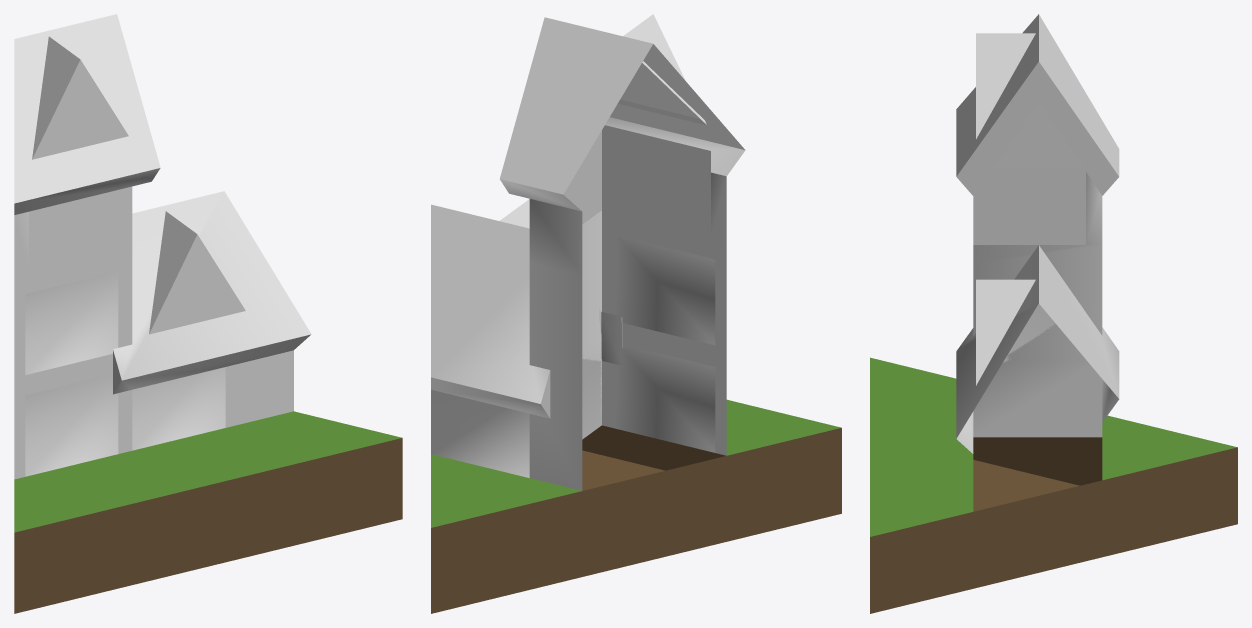
Rendered from Casa_to_Pis_Simetric_ED.fbx.
The picture shows the model from 3 angles, left to right: view 1: azimuth 30°, elevation 25°; view 2: azimuth 150°, elevation 25°; view 3: azimuth 270°, elevation 25°; orthographic projection. The views are drawn at different scales.
Visible parts, largest first — view 1: Casa_to_Pis_Simetric_ED, DetallParet.040, DetallParet.041, DetallTeulada.025, DetallTeulada.024, DetallCantonada.012, DetallParet.042; view 2: Casa_to_Pis_Simetric_ED, DetallCantonada.012, DetallParet.040, DetallParet.041, DetallParet.043, DetallTeulada.024; view 3: Casa_to_Pis_Simetric_ED, DetallCantonada.012, DetallTeulada.025, DetallTeulada.024, DetallAltell_1.004.
Boxes of the visible parts, x1,y1,x2,y2 form: Casa_to_Pis_Simetric_ED: (14, 14, 402, 613); DetallParet.040: (25, 271, 118, 374); DetallParet.041: (25, 374, 118, 476); DetallTeulada.025: (149, 211, 245, 334); DetallTeulada.024: (32, 36, 128, 159); DetallCantonada.012: (29, 186, 132, 272); DetallParet.042: (132, 367, 225, 450); Casa_to_Pis_Simetric_ED: (431, 17, 841, 613); DetallCantonada.012: (563, 125, 710, 236); DetallParet.040: (616, 235, 715, 345); DetallParet.041: (616, 344, 715, 452); DetallParet.043: (431, 389, 529, 477); DetallTeulada.024: (618, 14, 706, 125); Casa_to_Pis_Simetric_ED: (870, 14, 1237, 613); DetallCantonada.012: (973, 168, 1085, 244); DetallTeulada.025: (976, 279, 1035, 385); DetallTeulada.024: (976, 33, 1035, 138); DetallAltell_1.004: (992, 100, 1082, 167).
Bounding box in the file's own units: 100 × 120 × 86.6.
